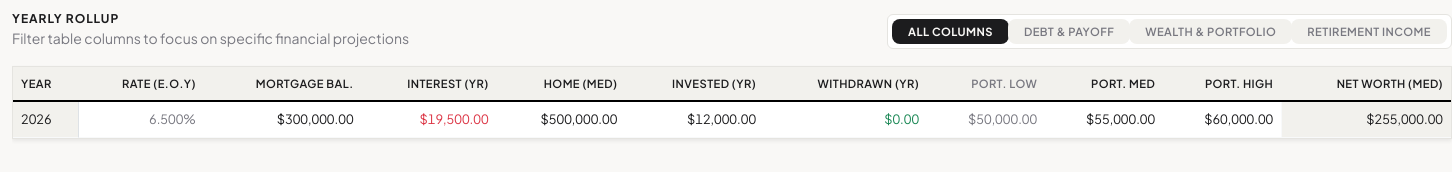
Test: AmortizationTable view preset filters › filters table columns according to selected view preset
Expected: the column heading "Rate (E.O.Y)" is shown, [79, 67, 204, 102]
Expected: the column heading "Invested (Yr)" is shown, [625, 67, 764, 102]
Note: Switch to Debt & Payoff
Step 1. Click the button "Debt & Payoff" → (1069, 31), box [1008, 19, 1130, 44]
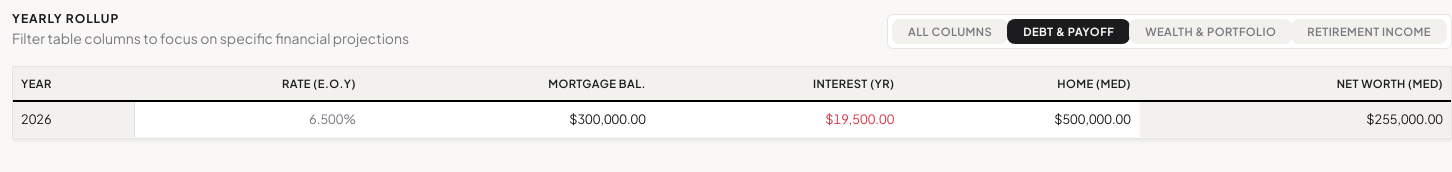
Expected: the column heading "Rate (E.O.Y)" is shown, [135, 67, 364, 102]
Expected: the column heading "Invested (Yr)" is gone
Note: Switch to Wealth & Portfolio
Step 2. Click the button "Wealth & Portfolio" → (1211, 31), box [1129, 19, 1292, 44]
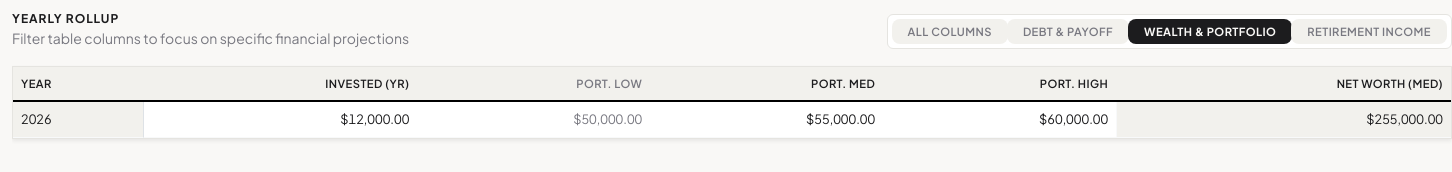
Expected: the column heading "Rate (E.O.Y)" is gone
Expected: the column heading "Invested (Yr)" is shown, [144, 67, 417, 102]
